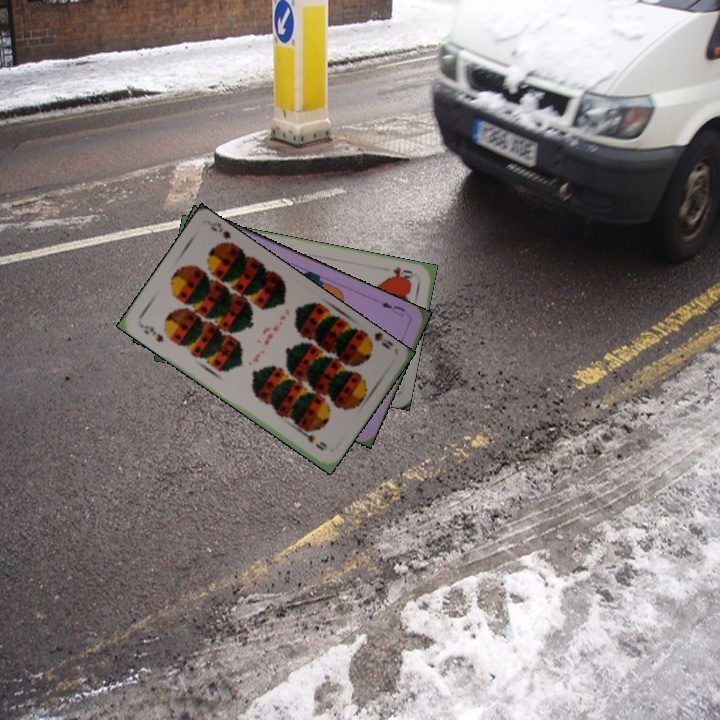EU: (377, 298, 408, 319)
HO: (388, 262, 416, 283)
S9: (359, 328, 395, 352), (135, 320, 166, 345)
